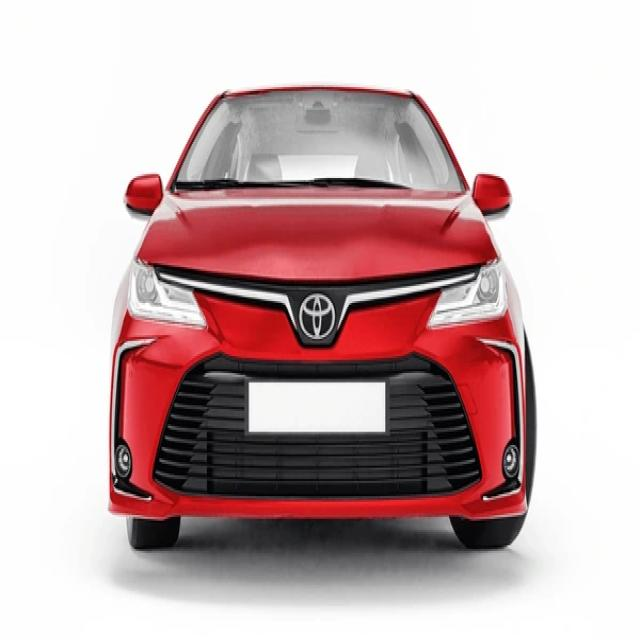toyota: (297, 293, 338, 338)
